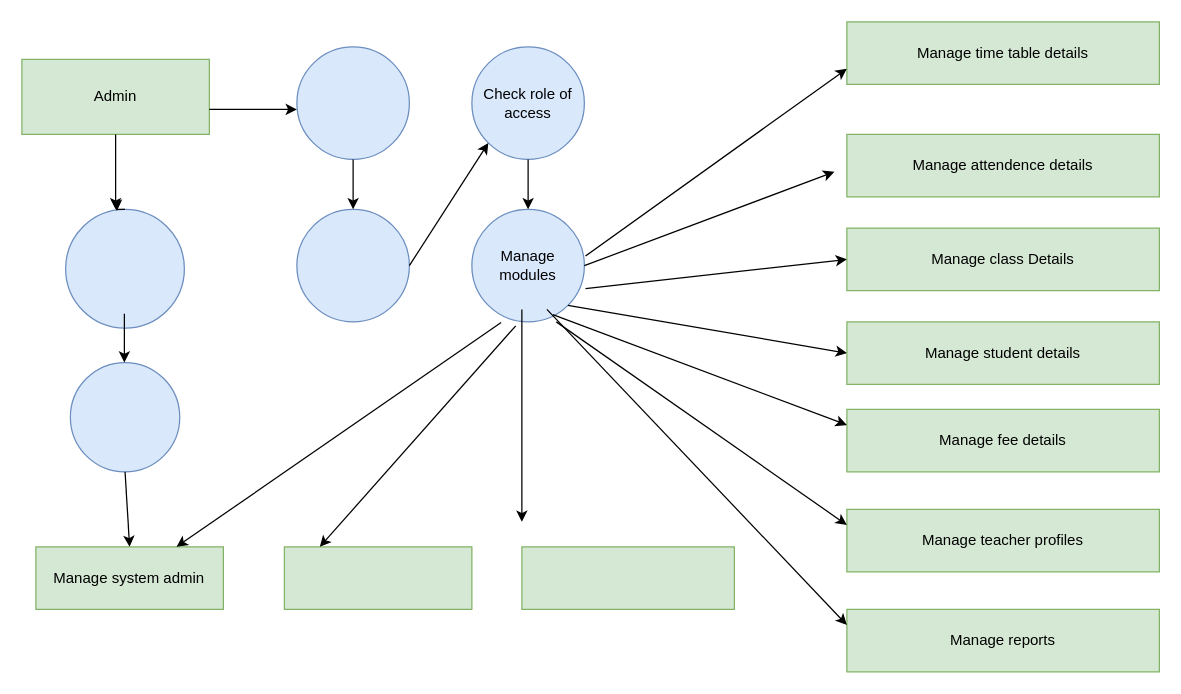
Image size: 1181x694. Some labels were removed from this diagram. Each missing label, with the centre of its shape:
"Check credential" goes at (x=352, y=265).
"Forget password" goes at (x=124, y=268).
"login to system" goes at (x=352, y=102).
"Manage role of user" goes at (x=377, y=577).
"Manage user permission" goes at (x=627, y=577).
"Send Email to user" goes at (x=124, y=416).
